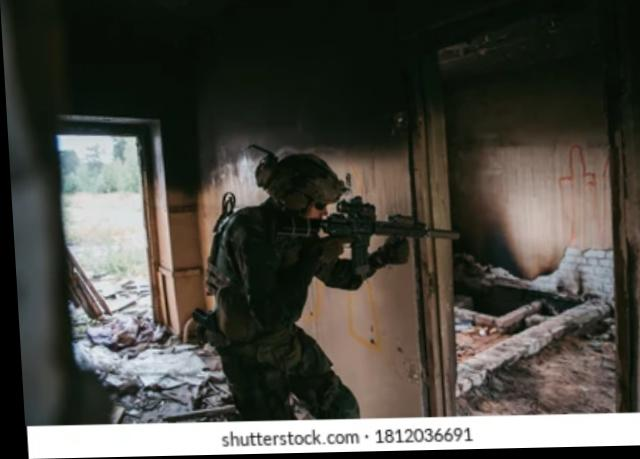other: (196, 158, 360, 418)
